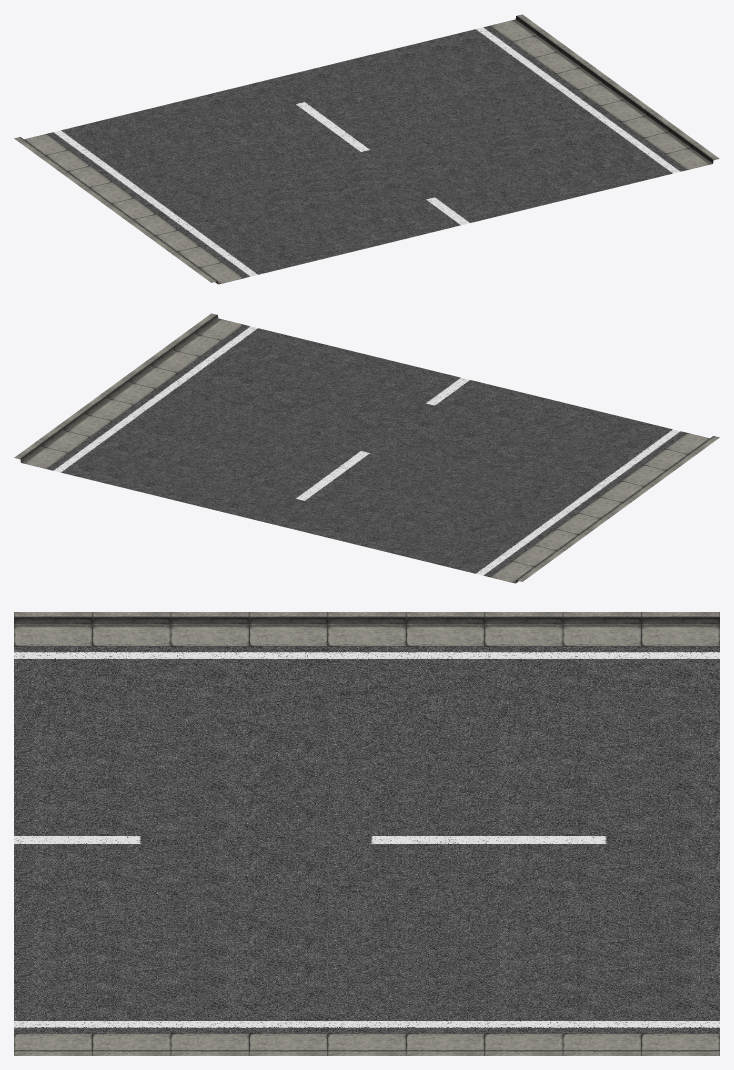
Rendered from 1syasen540cm.FBX.
3 views of the same model, one above another, from view 1: azimuth 30°, elevation 25°; view 2: azimuth 150°, elevation 25°; view 3: azimuth 270°, elevation 25° (orthographic). The views are drawn at different scales.
Parts seen in each view (by area): view 1: Street1Lane540cm; view 2: Street1Lane540cm; view 3: Street1Lane540cm.
Boxes of the visible parts, bbox=[...] form: Street1Lane540cm: bbox=[14, 14, 719, 284]; Street1Lane540cm: bbox=[14, 313, 719, 583]; Street1Lane540cm: bbox=[14, 612, 719, 1055].
Bounding box in the file's own units: 316 × 1.97 × 213.
